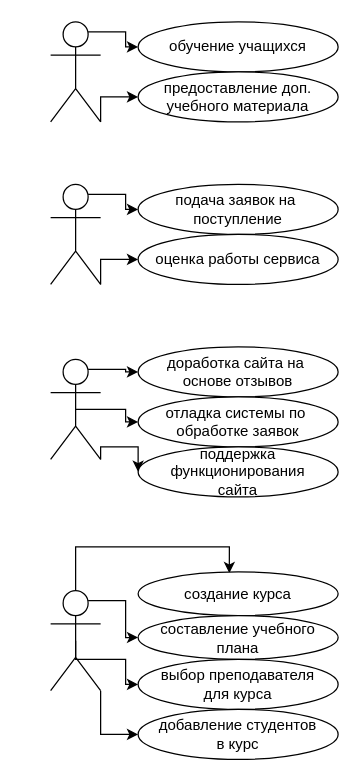
Some shapes in this 360 by 781 pixel diagram are drawn without their labels. The shapes that lost their labels are listed below. From the top down, each one's box as (x1, y1, x2, y2) in pixels, then its label:
(49, 21, 101, 122): Преподаватели
(49, 183, 101, 284): Обучающиеся
(49, 358, 101, 459): Технические работники
(49, 589, 101, 691): Завуч
